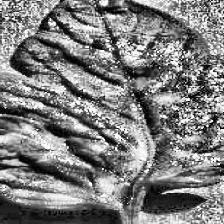Anthracnose Fruit Rot: (95, 48, 153, 70), (173, 167, 224, 190), (87, 175, 130, 195), (40, 190, 85, 204), (2, 156, 54, 168)
